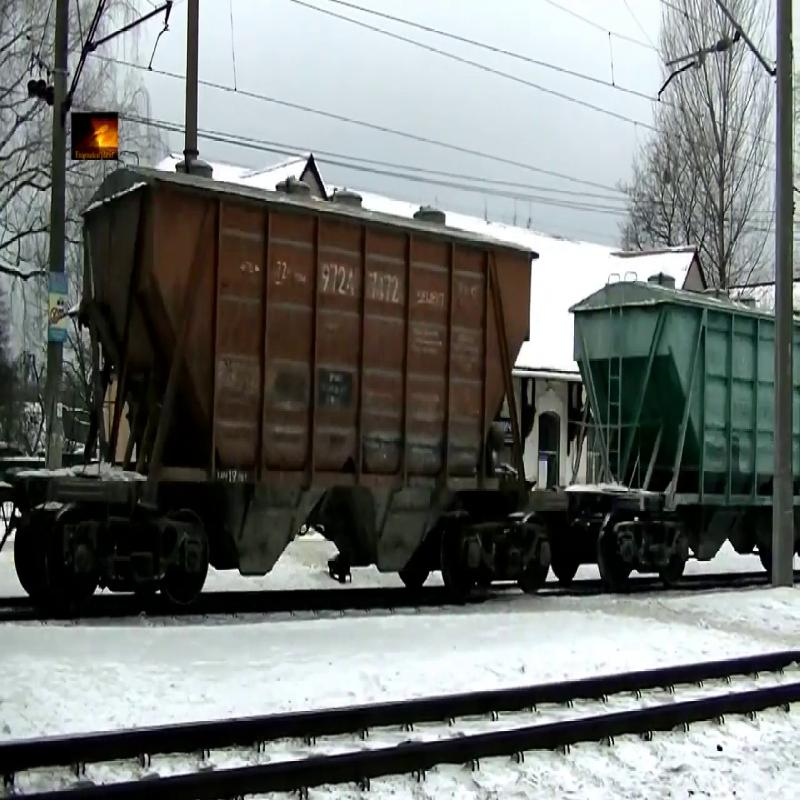train: (86, 175, 545, 598)
